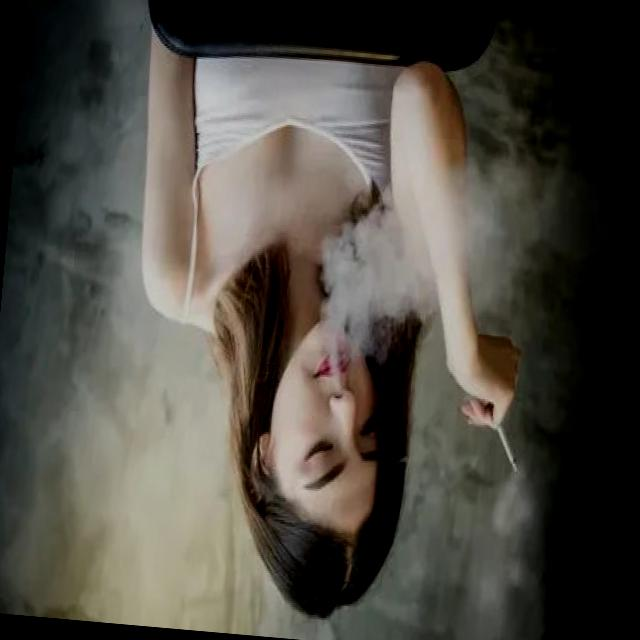smoke: (487, 418, 528, 480)
